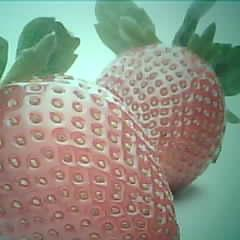straw-ripe: (0, 75, 181, 240), (94, 42, 226, 195)
